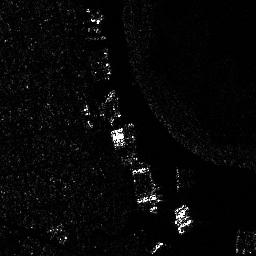ship: (149, 239, 163, 255)
